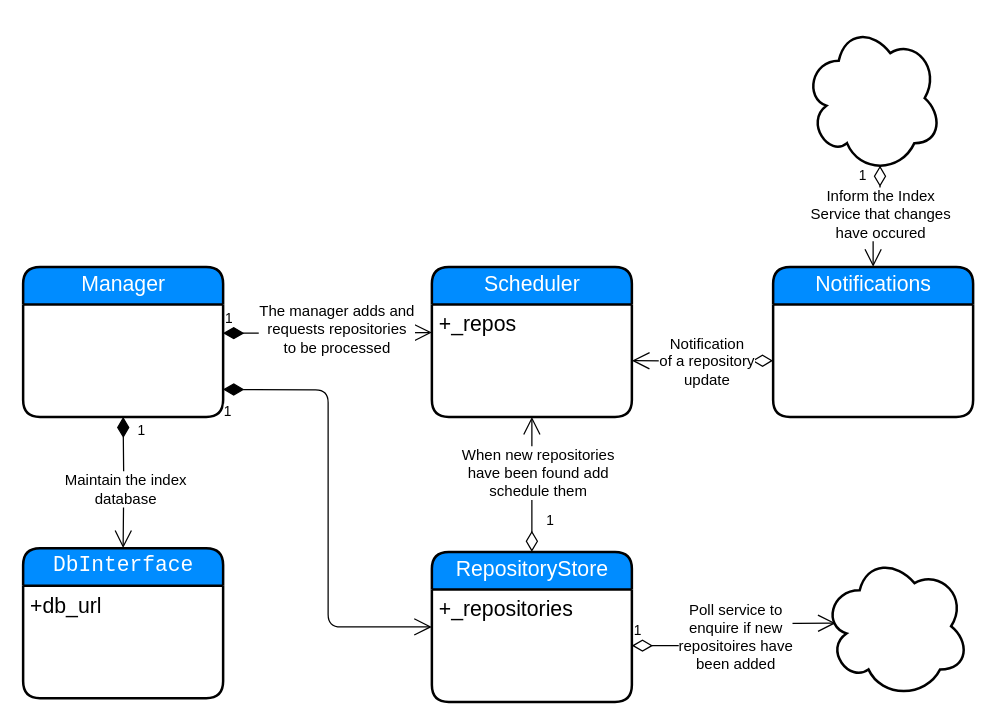
Some shapes in this 995 by 724 pixel diagram are drawn without their labels. Each missing label, with the centre of its shape:
Accounts Service: point (895, 625)
Repository Service: point (872, 97)
